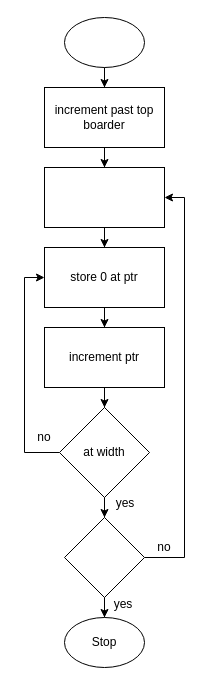
Some shapes in this 210 by 685 pixel diagram are drawn without their labels. The box of each missing label's shape, as (x1, y1, x2, y2) in pixels:
at height: (64, 516, 144, 598)
increment past right boarder: (44, 166, 164, 228)
Start: (64, 16, 144, 68)
